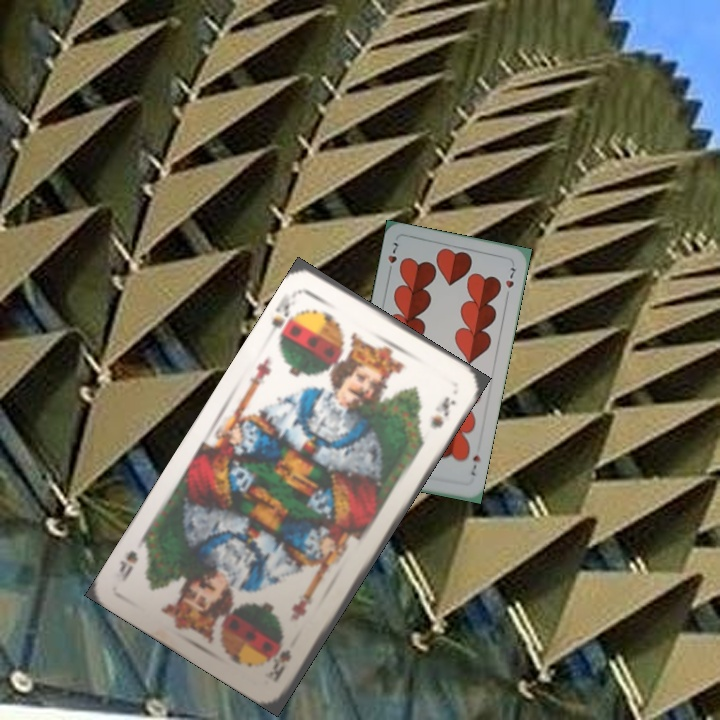H7: (384, 238, 401, 277), (467, 451, 483, 479)
SK: (267, 285, 305, 344), (263, 645, 295, 684)
